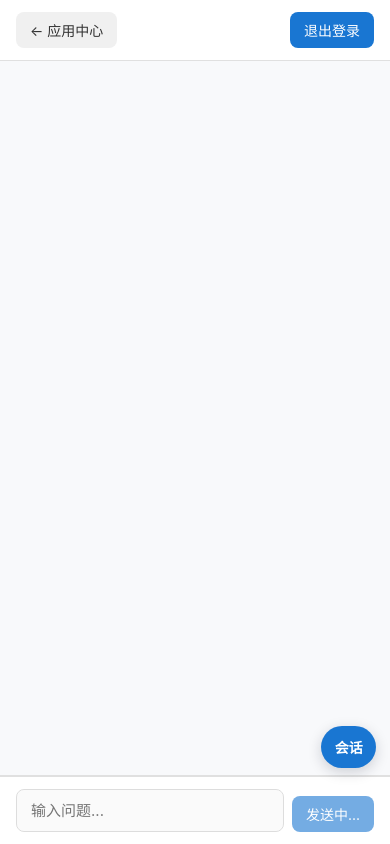
ChatPage latest conversation inputs restore › keeps mobile chat controls available as a collapsed floating menu
The width and height of the screenshot is (390, 844).
Click the button with aria-label "展开会话操作" at (349, 747), box x1=321 y1=726 x2=376 y2=768
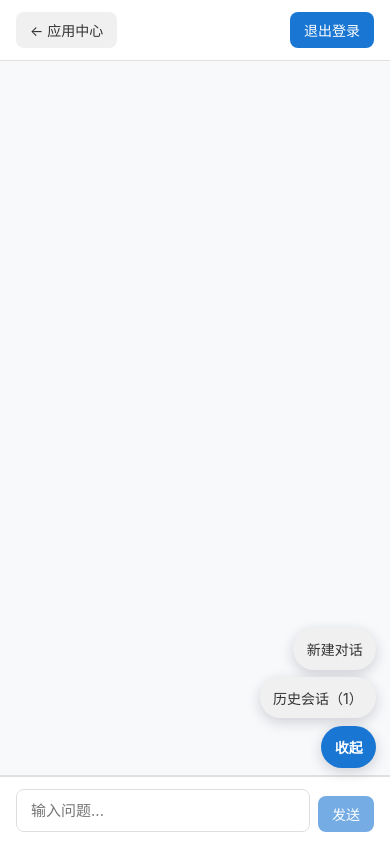
Expected: the button with aria-label "展开会话操作" is expanded, x1=321 y1=726 x2=376 y2=768
Expected: the button with aria-label "移动端新建对话" is shown, x1=293 y1=628 x2=376 y2=670
Expected: the button with aria-label "移动端历史会话" is shown, x1=260 y1=677 x2=376 y2=718
